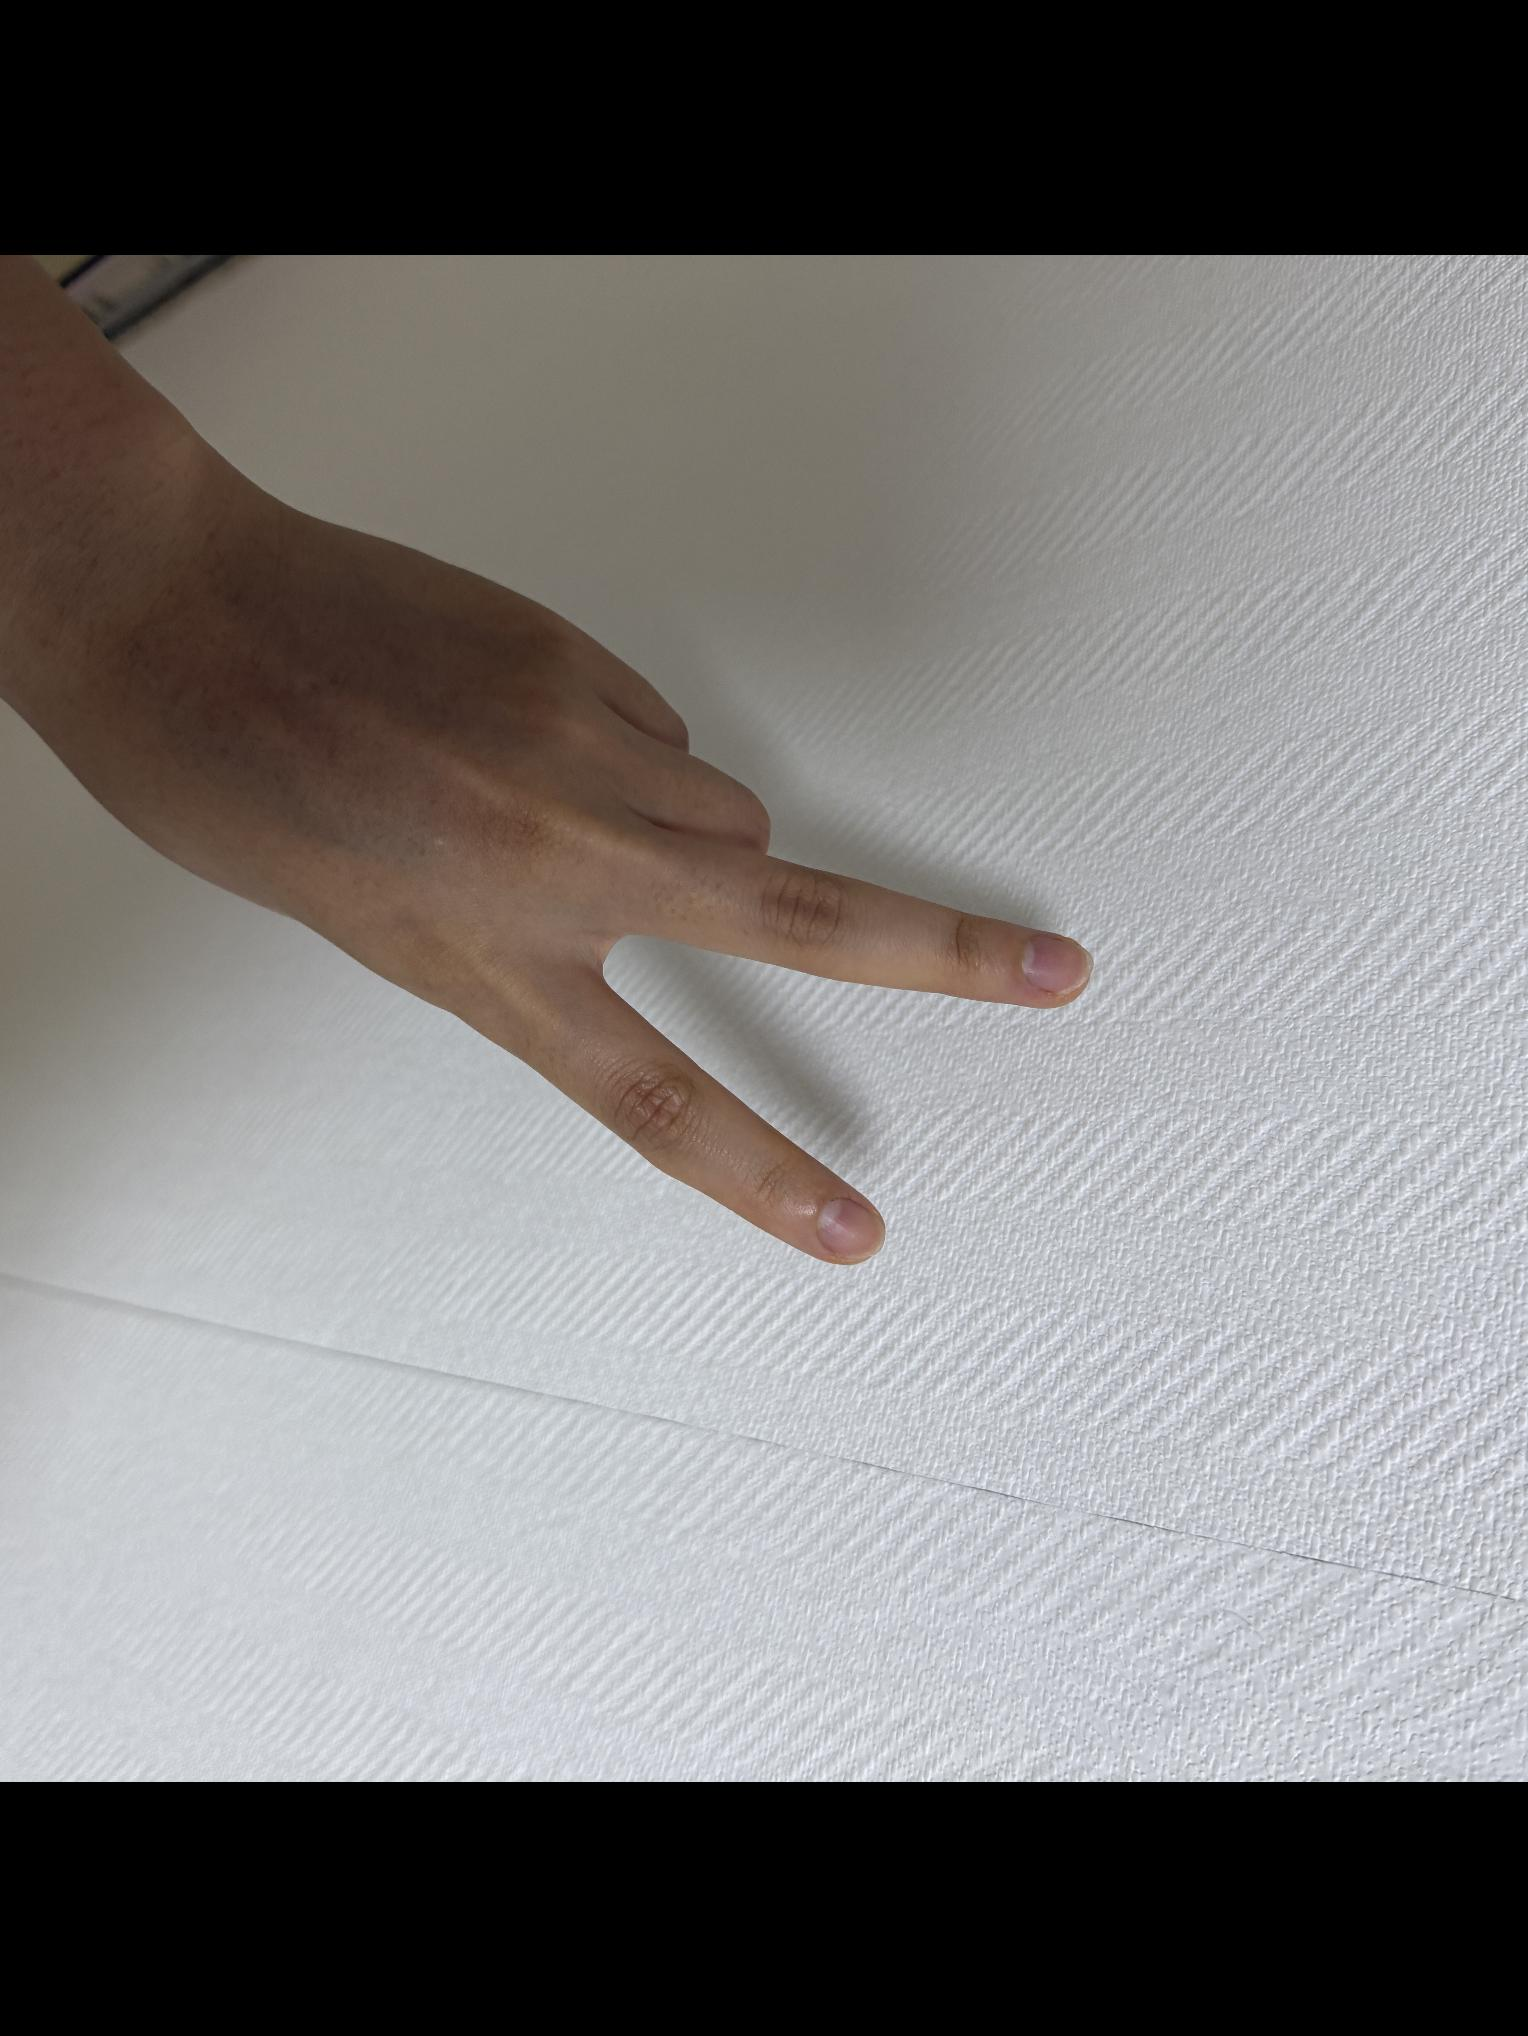v: (0, 485, 1116, 1274)
